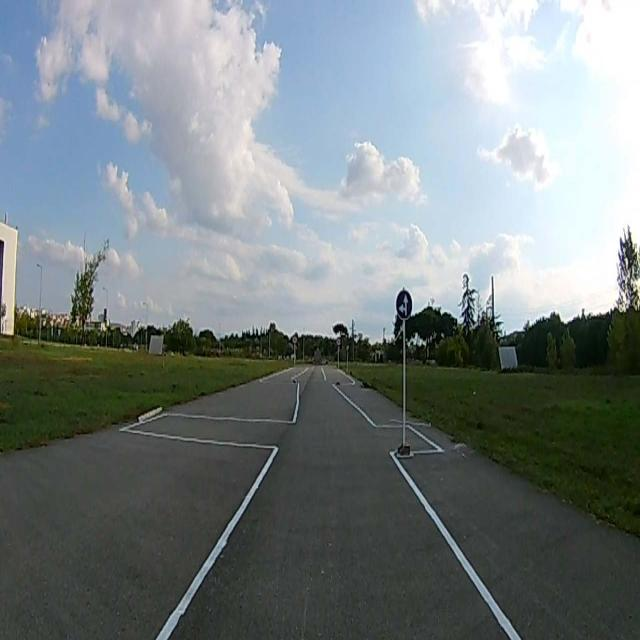ilerisol: (397, 290, 412, 319)
